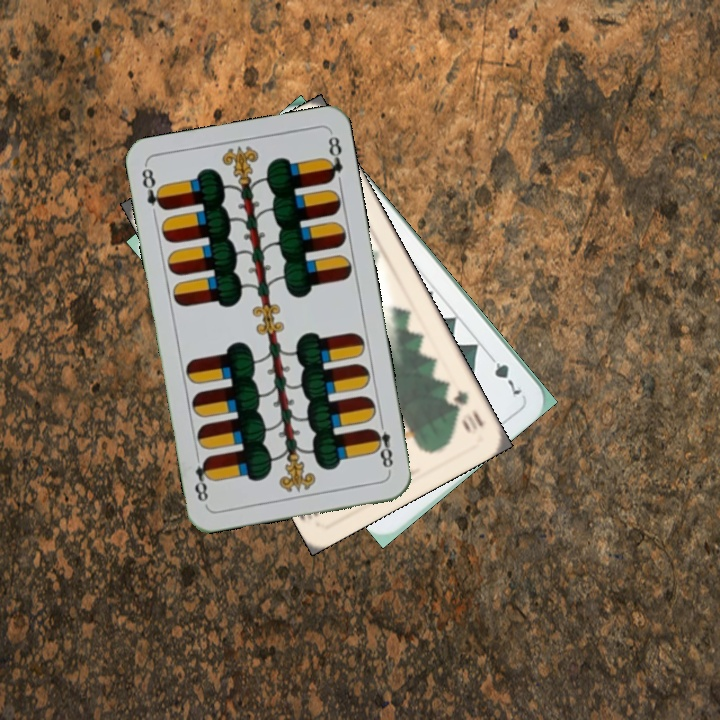E8: (368, 416, 396, 475), (137, 163, 168, 213)
G10: (449, 386, 486, 435)
G7: (483, 349, 525, 398)
